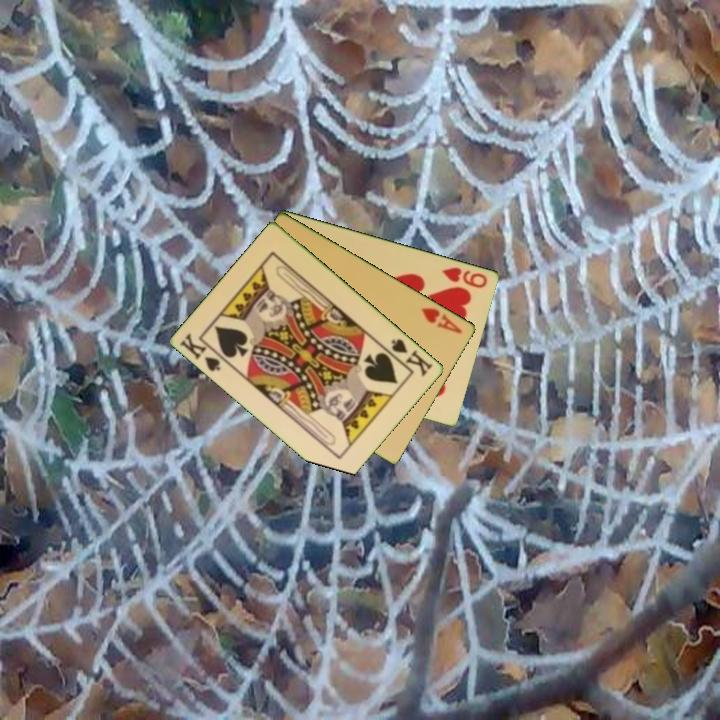9h: (439, 263, 490, 291)
Ah: (418, 304, 465, 337)
Ks: (177, 329, 231, 374), (383, 335, 436, 379)
